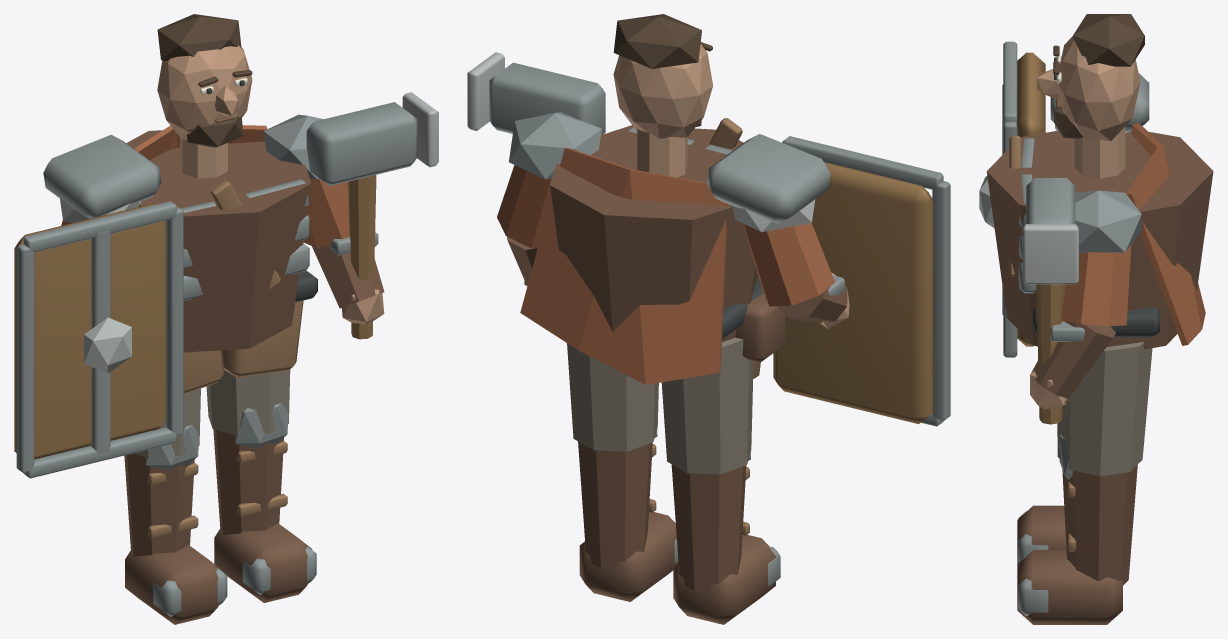
The model's file is model_roadblock_boss.glb.
3 renders of one model, left to right at view 1: azimuth 30°, elevation 25°; view 2: azimuth 150°, elevation 25°; view 3: azimuth 270°, elevation 25°, orthographic. The views are drawn at different scales.
Parts seen in each view (by area): view 1: shield timber core, coat torso.002, square sledgehammer head, extra raised shoulder plate, head.002, shin leather boot.005, shin leather boot.004, boot toe.004, boot toe.005, shield side binding, shield side binding.001, trouser upper leg.005 (+22 smaller); view 2: shield timber core, coat torso.002, short travel cloak.002, trouser upper leg.004, shin leather boot.004, shin leather boot.005, extra raised shoulder plate, trouser upper leg.005, head.002, square sledgehammer head, upper sleeve.004, boot toe.004 (+14 smaller); view 3: coat torso.002, trouser upper leg.005, shin leather boot.005, head.002, boot toe.005, short travel cloak.002, upper sleeve.005, shoulder guard.005, hammer striking face, forearm leather bracer.005, cropped hair.001, shield timber core (+17 smaller).
Boxes of the visible parts, box(x1,y1,x2,y2) form: shield timber core: box(14, 203, 166, 459); coat torso.002: box(126, 130, 311, 352); square sledgehammer head: box(306, 102, 417, 185); extra raised shoulder plate: box(43, 134, 161, 218); head.002: box(157, 45, 252, 139); shin leather boot.005: box(213, 429, 283, 534); shin leather boot.004: box(124, 453, 194, 556); boot toe.004: box(125, 545, 222, 624); boot toe.005: box(214, 523, 312, 602); shield side binding: box(16, 244, 34, 472); shield side binding.001: box(166, 206, 183, 435); trouser upper leg.005: box(206, 369, 290, 435); shield timber core: box(773, 162, 933, 424); coat torso.002: box(550, 125, 757, 342); short travel cloak.002: box(520, 148, 727, 384); trouser upper leg.004: box(661, 337, 753, 474); shin leather boot.004: box(671, 464, 746, 591); shin leather boot.005: box(578, 441, 652, 569); extra raised shoulder plate: box(707, 134, 830, 223); trouser upper leg.005: box(567, 343, 658, 451); head.002: box(613, 44, 712, 138); square sledgehammer head: box(489, 62, 605, 134); upper sleeve.004: box(743, 223, 834, 306); boot toe.004: box(673, 535, 775, 624); coat torso.002: box(986, 130, 1213, 349); trouser upper leg.005: box(1057, 342, 1152, 476); shin leather boot.005: box(1062, 464, 1137, 585); head.002: box(1059, 36, 1140, 141); boot toe.005: box(1017, 550, 1122, 624); short travel cloak.002: box(1126, 122, 1205, 345); upper sleeve.005: box(1060, 245, 1131, 326); shoulder guard.005: box(1075, 190, 1141, 252); hammer striking face: box(1022, 224, 1078, 284); forearm leather bracer.005: box(1031, 321, 1115, 398); cropped hair.001: box(1073, 14, 1144, 66); shield timber core: box(1017, 52, 1045, 346).
Bounding box in the file's own units: 1.43 × 1.81 × 0.6645.
